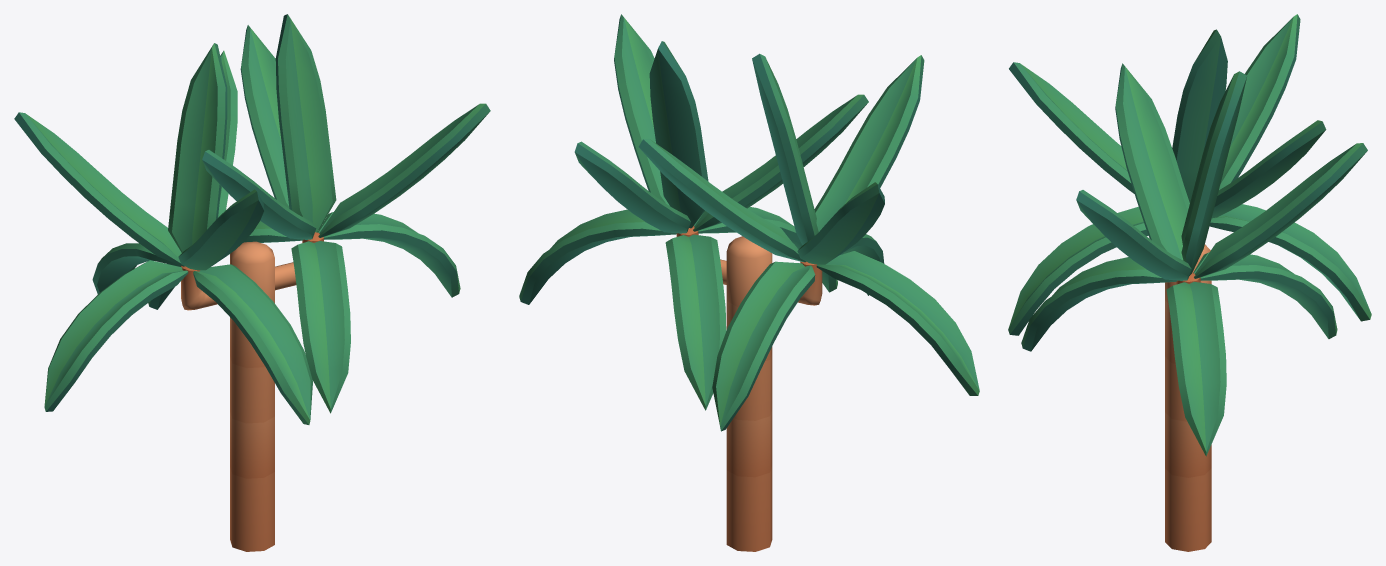
The model's file is Large Yucca-R0FXR2uBq9.glb.
3 views of the same model, side by side, from view 1: azimuth 30°, elevation 25°; view 2: azimuth 150°, elevation 25°; view 3: azimuth 270°, elevation 25° (orthographic). The views are drawn at different scales.
Parts seen in each view (by area): view 1: yucca_branch_large_B; view 2: yucca_branch_large_B; view 3: yucca_branch_large_B.
Boxes of the visible parts, left/top/right/bottom form: yucca_branch_large_B: left=14, top=14, right=490, bottom=551; yucca_branch_large_B: left=519, top=14, right=979, bottom=551; yucca_branch_large_B: left=1008, top=14, right=1371, bottom=551.
Size of the model in its own units: 1.52 by 1.66 by 1.09.
1 material, 1 textured.
